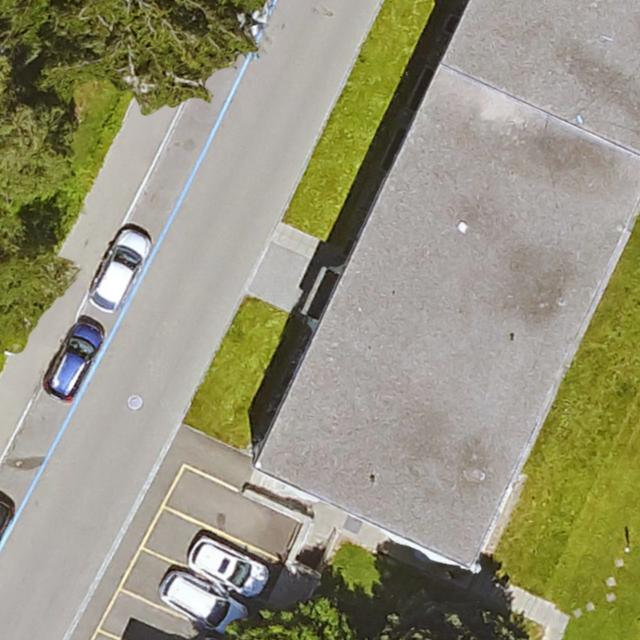tree: (52, 0, 252, 104), (0, 67, 70, 203), (384, 604, 522, 640), (224, 602, 354, 640)
